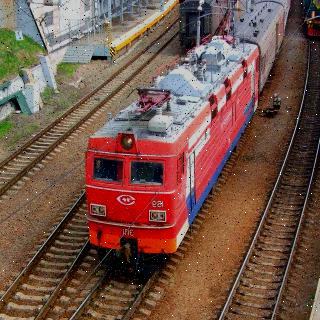poezd: (92, 44, 259, 267)
